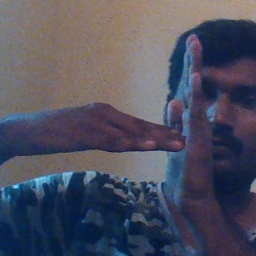Z: (111, 33, 212, 206)
